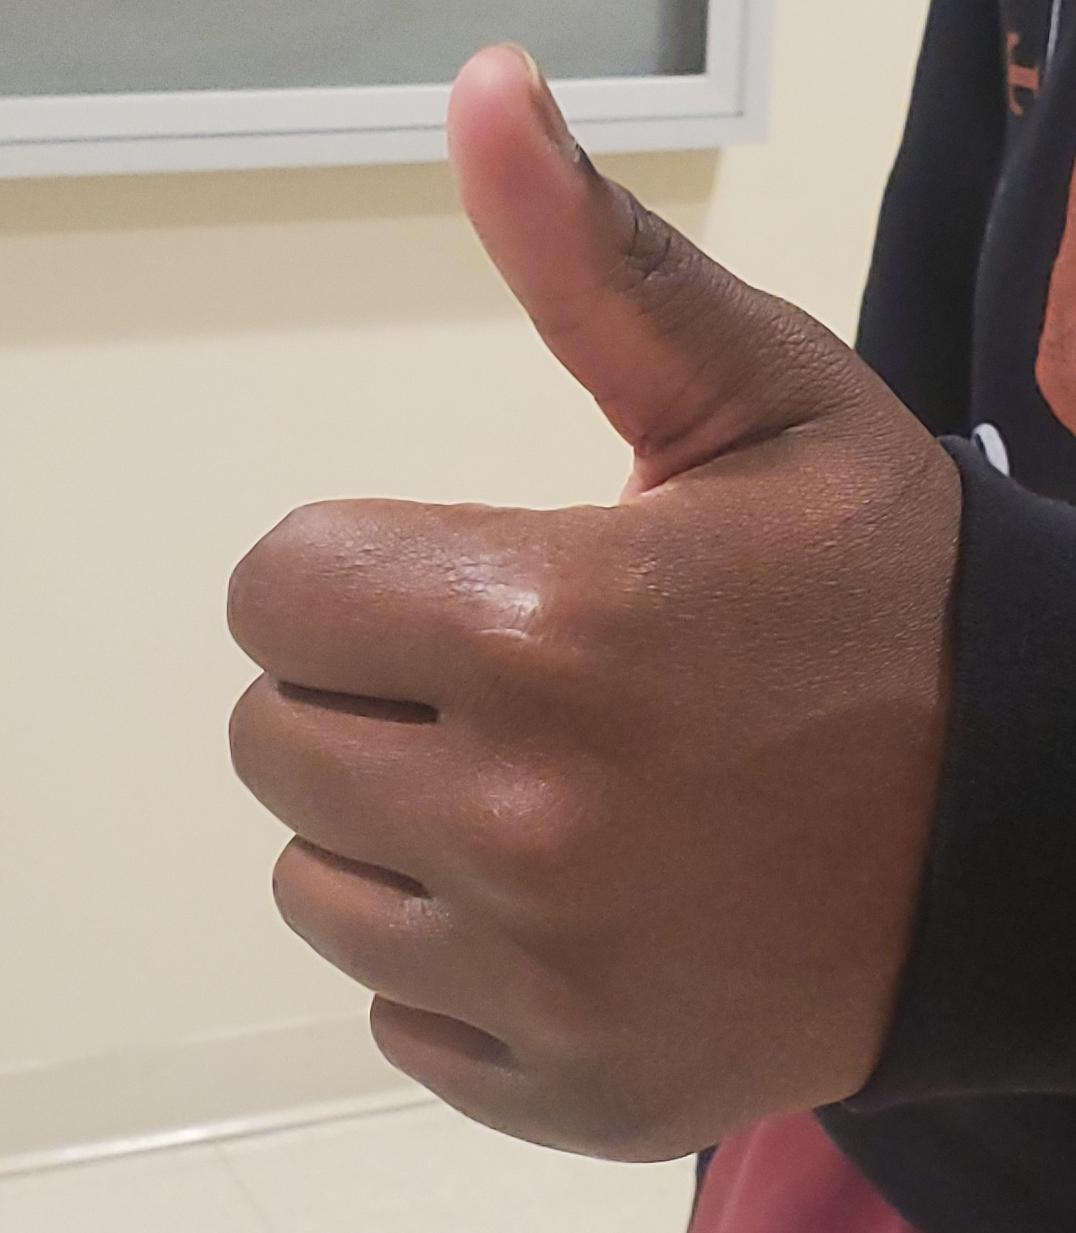up: (0, 1, 1076, 1233)
